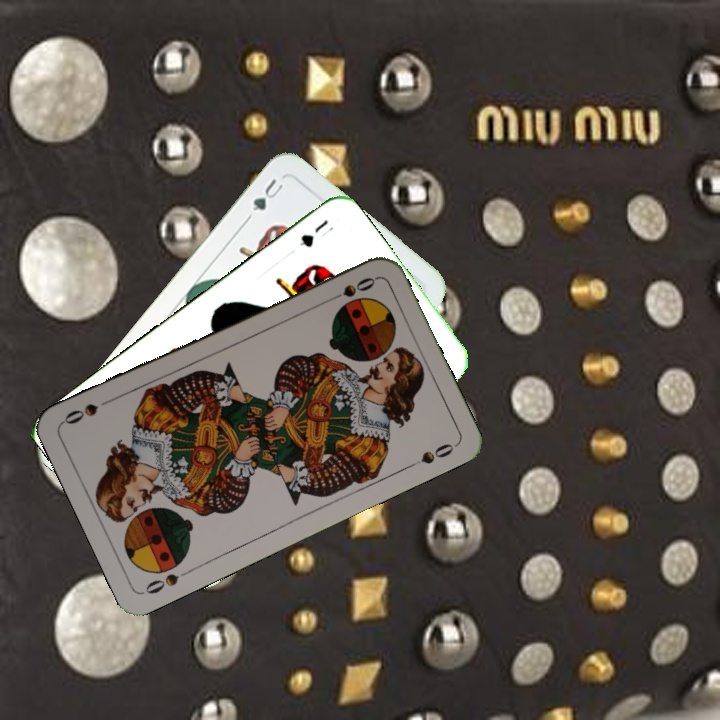GU: (248, 174, 286, 214), (295, 215, 337, 251)
SO: (323, 273, 379, 305), (141, 564, 195, 597)
